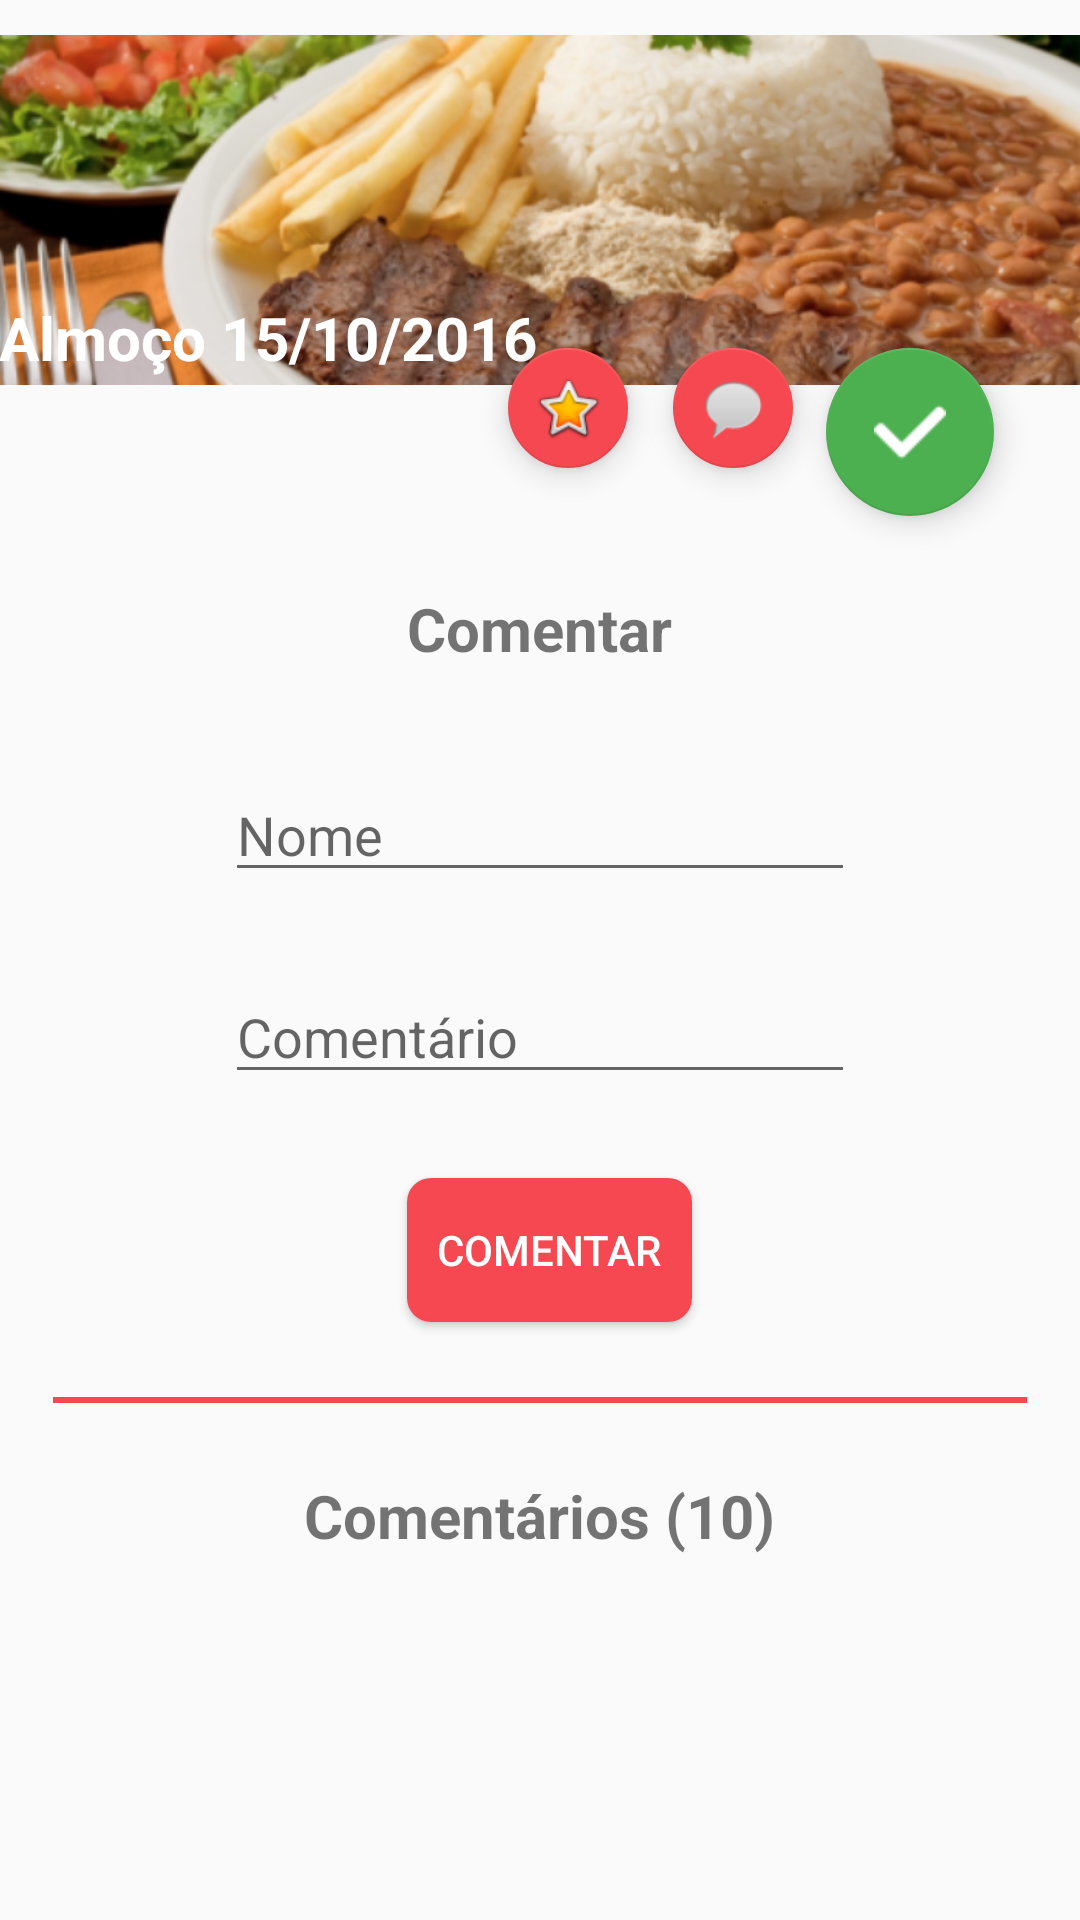

Named icons in this screenshot (1080w x 1920h) and their centers, point (x, y):
check: point (910, 432)
